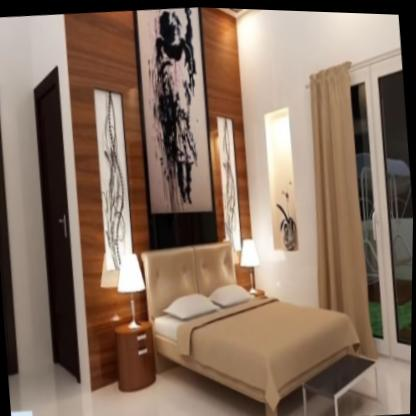Bed: (148, 225, 367, 416)
Frame: (128, 4, 219, 222)
Lamp: (112, 247, 153, 331), (238, 229, 266, 298)
Nightstand: (110, 316, 165, 398)
